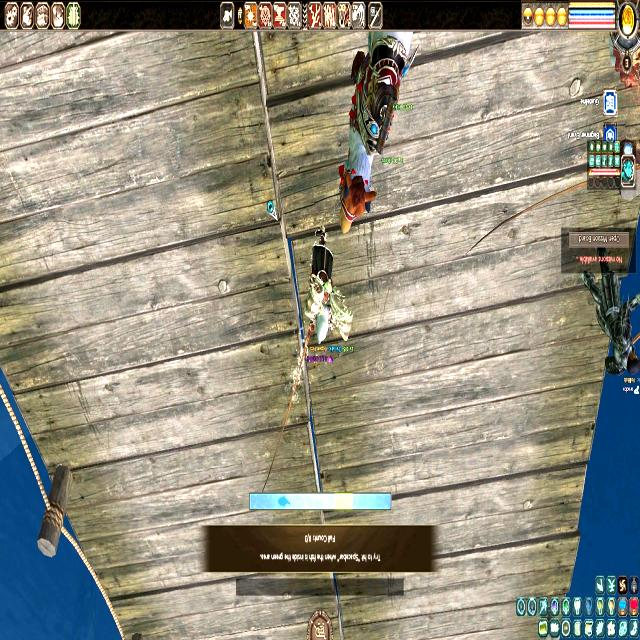fishes: (279, 495, 290, 509)
